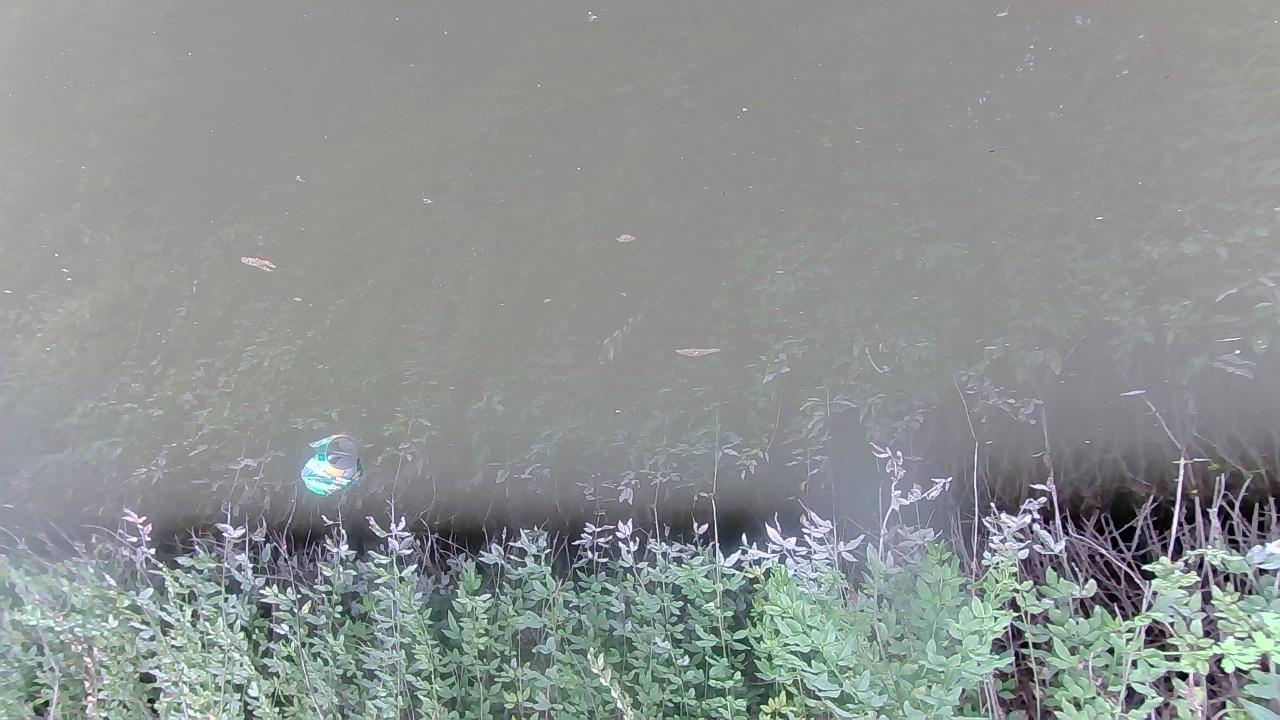Metal: (294, 437, 368, 497)
